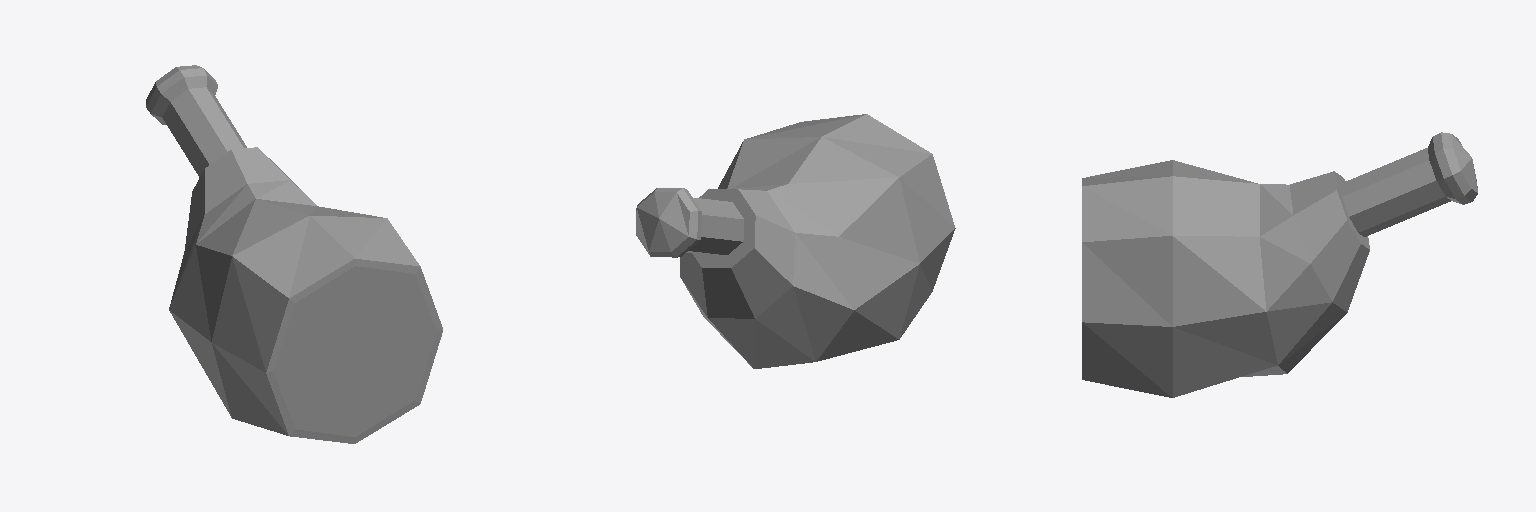
Rendered from ham.obj.
3 views of the same model, side by side, from view 1: azimuth 30°, elevation 25°; view 2: azimuth 150°, elevation 25°; view 3: azimuth 270°, elevation 25° (orthographic).
Visible parts, largest first — view 1: Cube; view 2: Cube; view 3: Cube.
Boxes of the visible parts, box(x1,y1,x2,y2) form: Cube: box(146, 65, 442, 443); Cube: box(636, 114, 955, 368); Cube: box(1082, 132, 1477, 397).
Bounding box in the file's own units: 2.25 × 2.75 × 3.93.